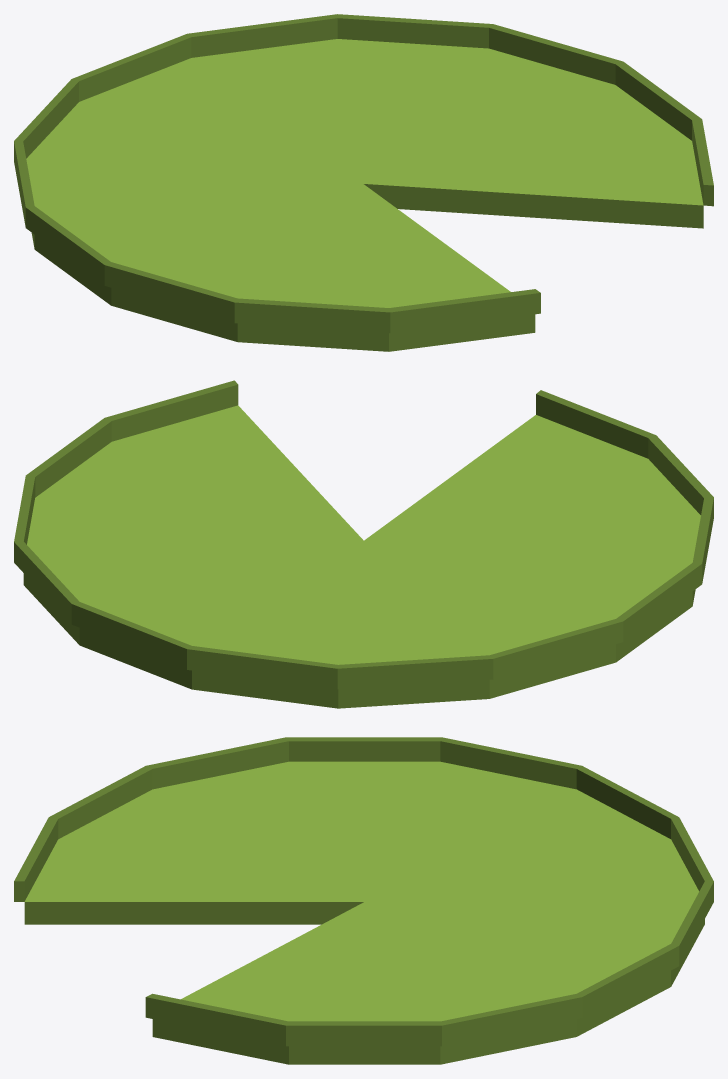
File: LilyPad.fbx
3 views of the same model, one above another, from view 1: azimuth 30°, elevation 25°; view 2: azimuth 150°, elevation 25°; view 3: azimuth 270°, elevation 25° (orthographic).
Visible parts, largest first — view 1: Lilypad; view 2: Lilypad; view 3: Lilypad.
Boxes of the visible parts, <box> form: Lilypad: <box>14,14,713,351</box>; Lilypad: <box>14,380,713,708</box>; Lilypad: <box>14,737,713,1064</box>.
Size of the model in its own units: 100 by 7.02 by 103.
